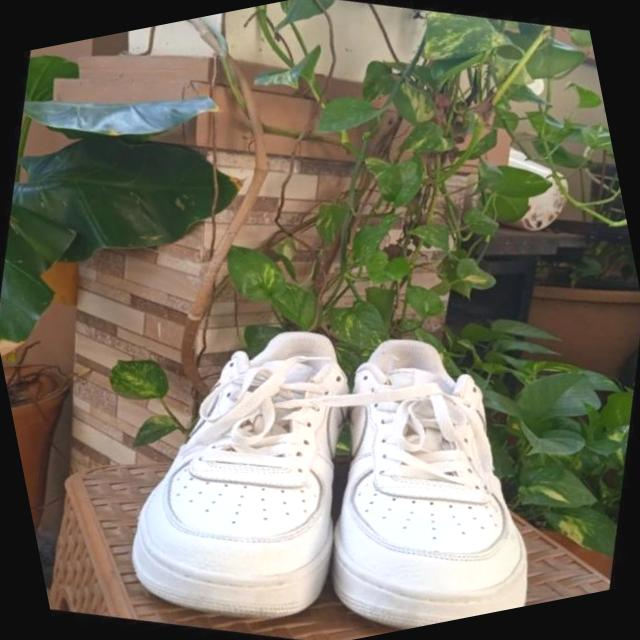nike_fake_airforce: (64, 274, 415, 640), (267, 292, 606, 640)
